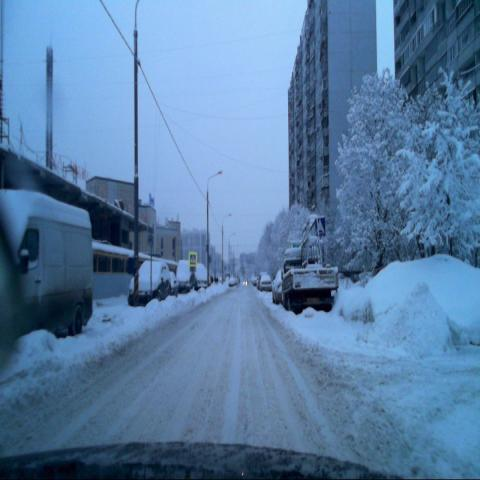5_20: (313, 216, 326, 238)
